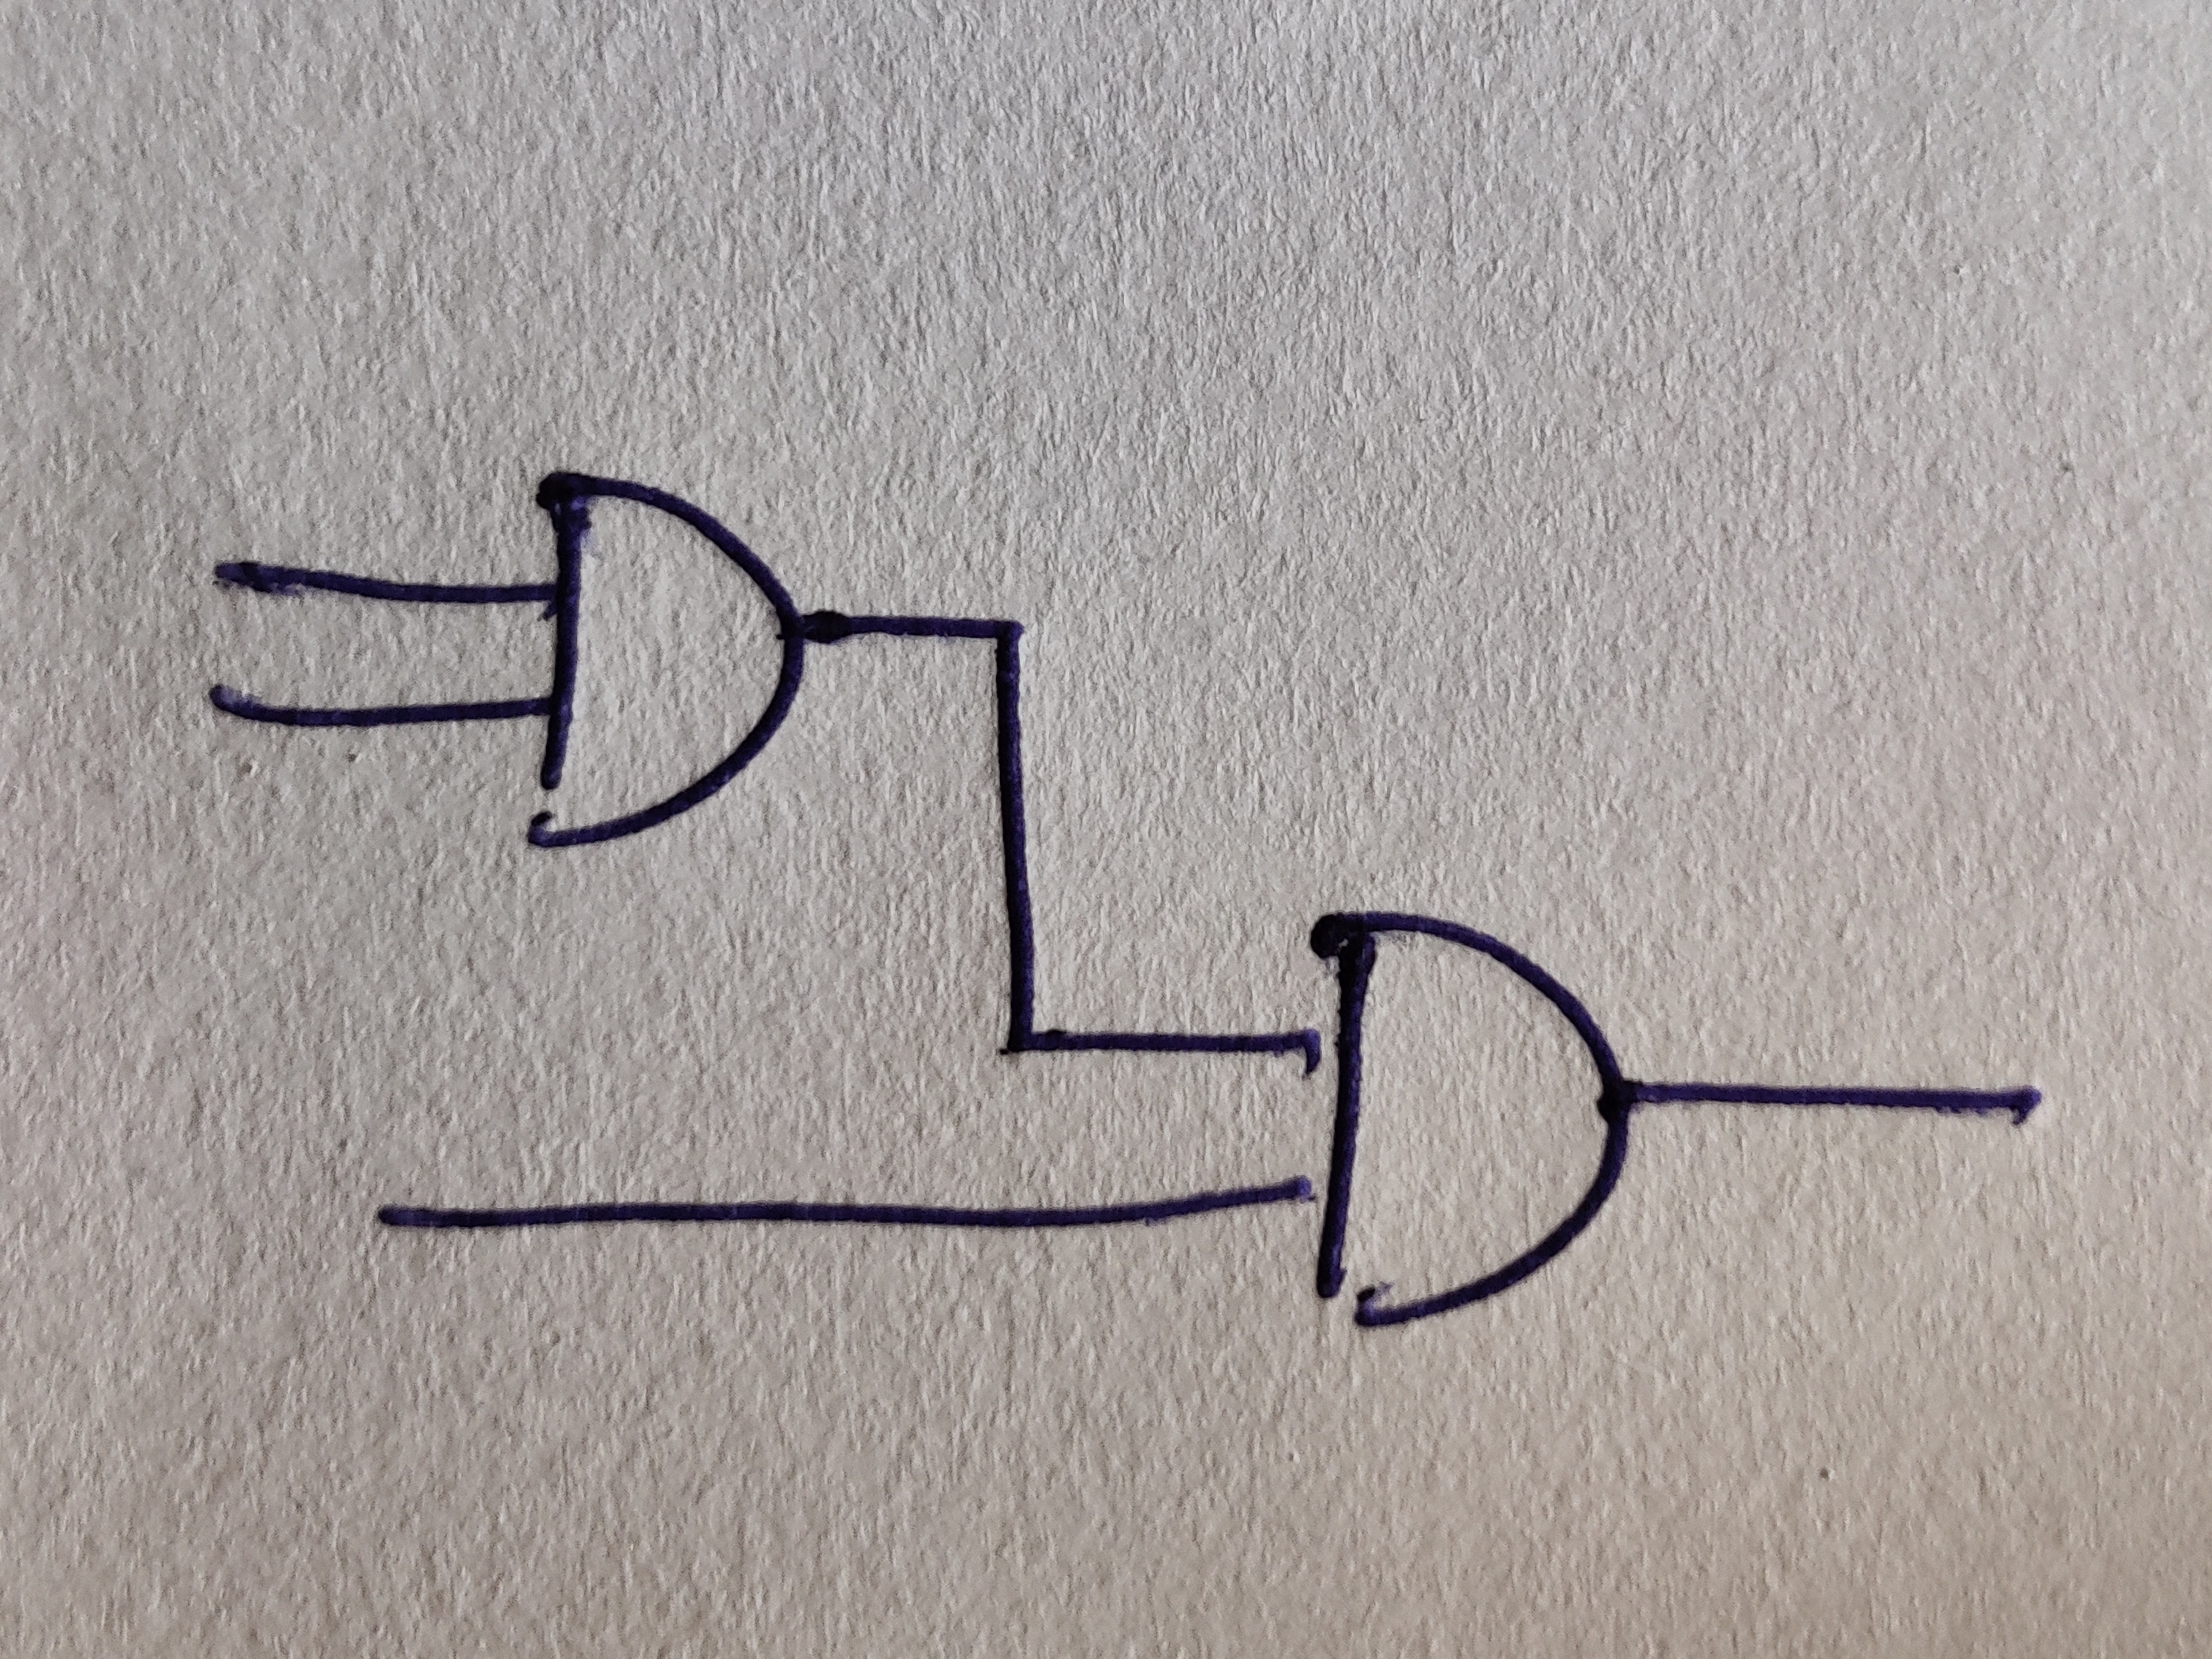and: (1310, 911, 1630, 1328), (528, 474, 803, 852)
